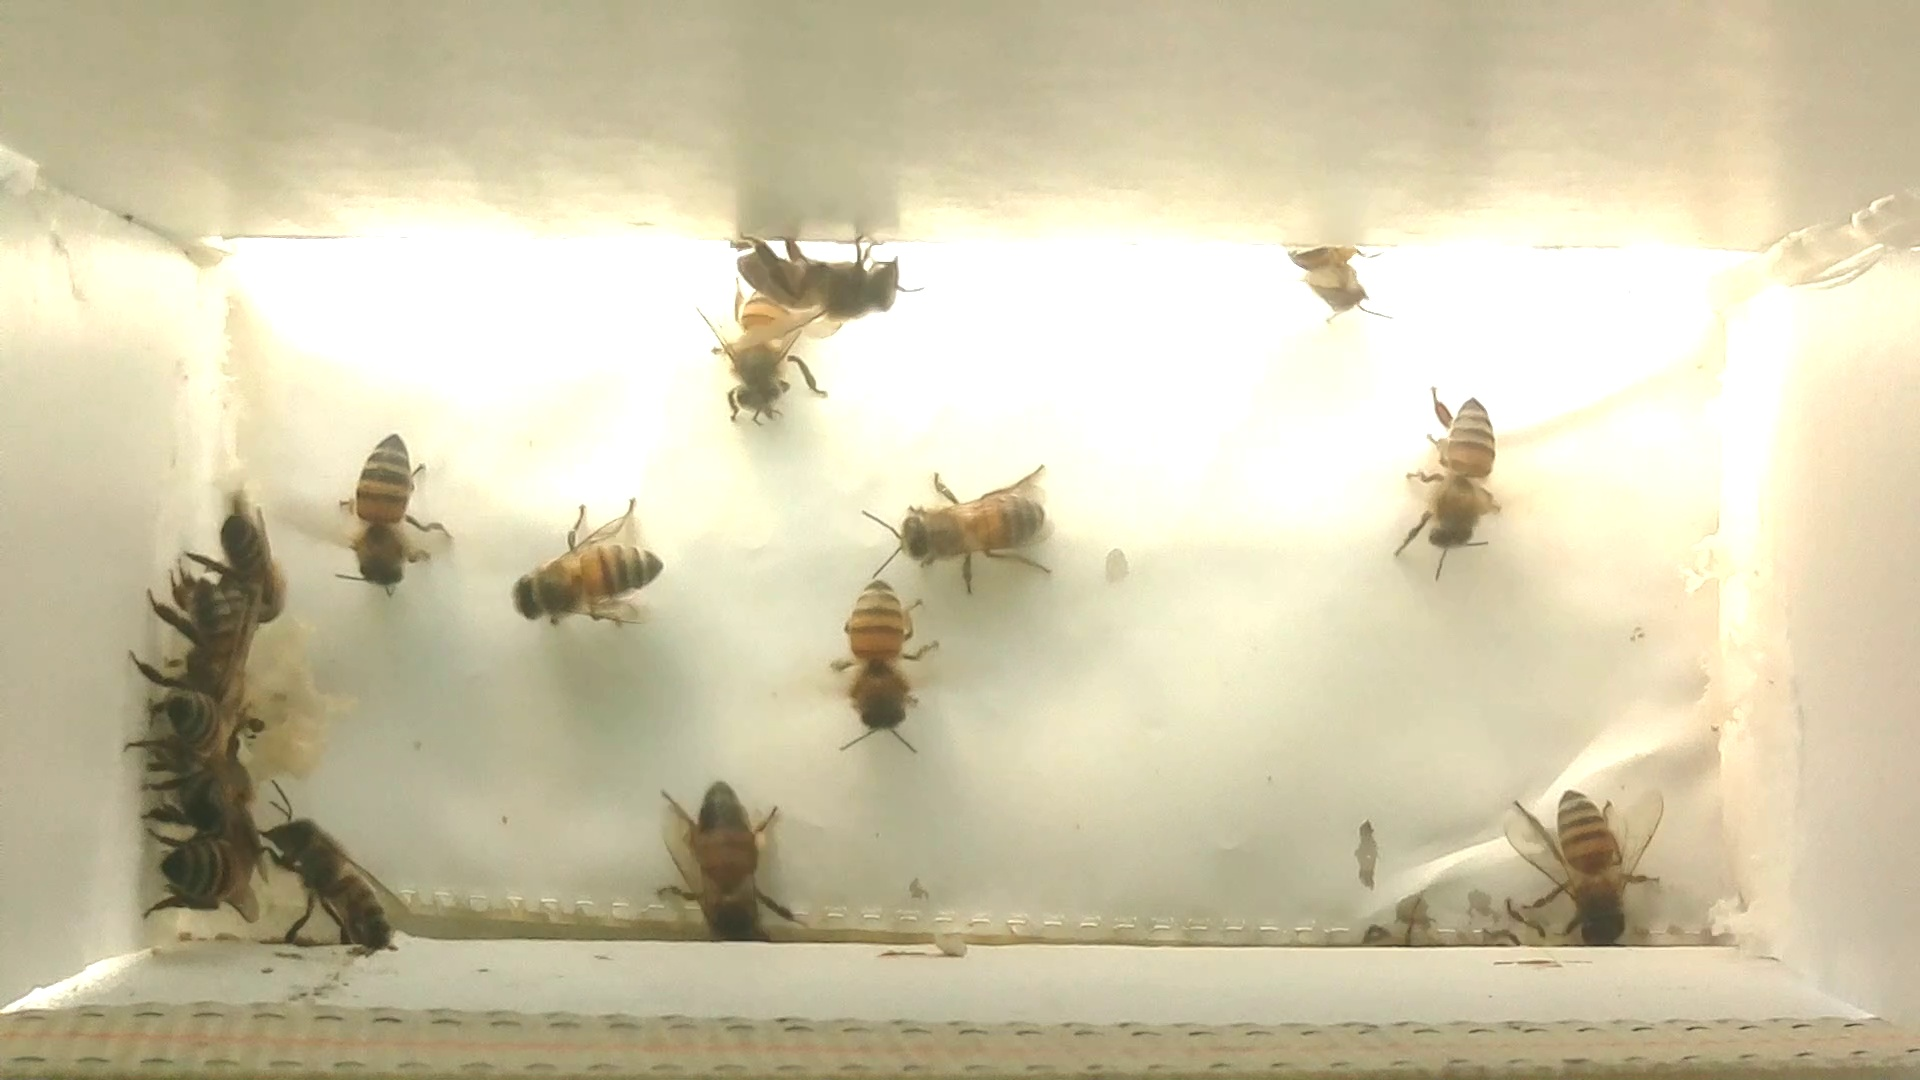bee: (1494, 770, 1681, 960), (473, 493, 691, 647), (804, 564, 968, 767), (644, 764, 814, 955), (301, 407, 463, 607), (861, 454, 1073, 601), (1386, 371, 1523, 595), (239, 785, 404, 959), (696, 266, 841, 425), (720, 220, 920, 331), (109, 649, 276, 775), (191, 473, 299, 634), (138, 800, 265, 928), (154, 560, 260, 705), (1273, 231, 1403, 342)
